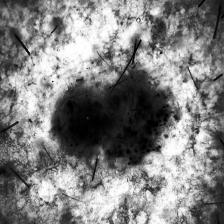Benign Marking or Mole: (52, 74, 184, 175)
